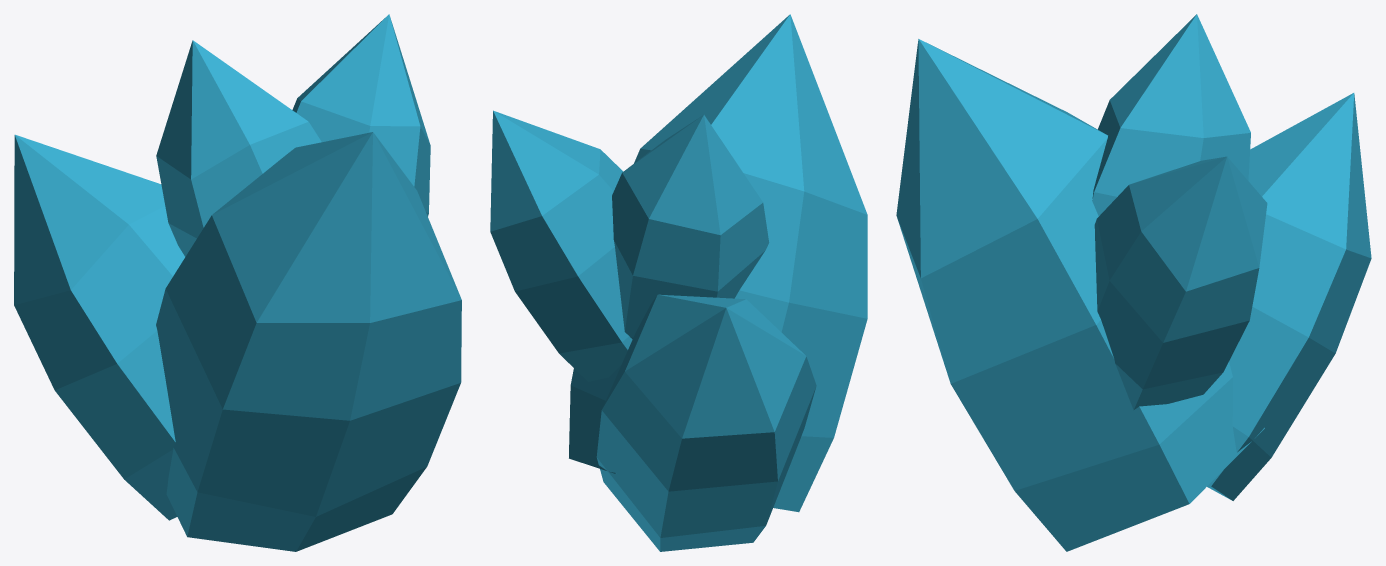
File: CrystalCluster1.fbx
3 renders of one model, left to right at view 1: azimuth 30°, elevation 25°; view 2: azimuth 150°, elevation 25°; view 3: azimuth 270°, elevation 25°, orthographic. The views are drawn at different scales.
Visible parts, largest first — view 1: CrystalCluster1; view 2: CrystalCluster1; view 3: CrystalCluster1.
Part boxes in pixels (x1,y1,x2,y2): CrystalCluster1: (14, 14, 461, 551); CrystalCluster1: (490, 14, 867, 551); CrystalCluster1: (896, 14, 1371, 551).
Bounding box in the file's own units: 611 × 759 × 685.
